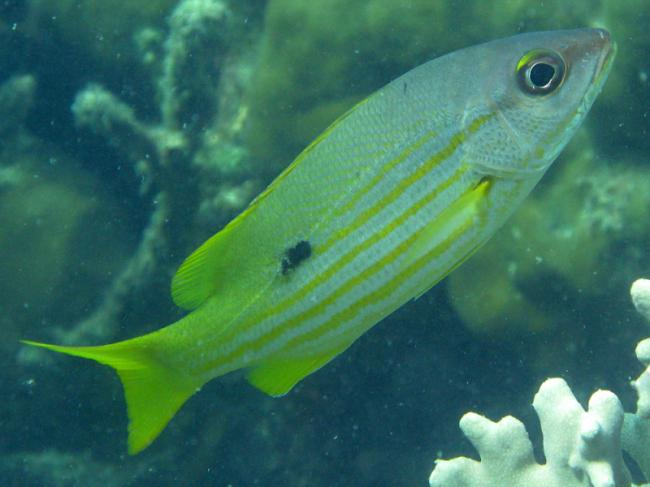fish: (19, 26, 617, 455)
